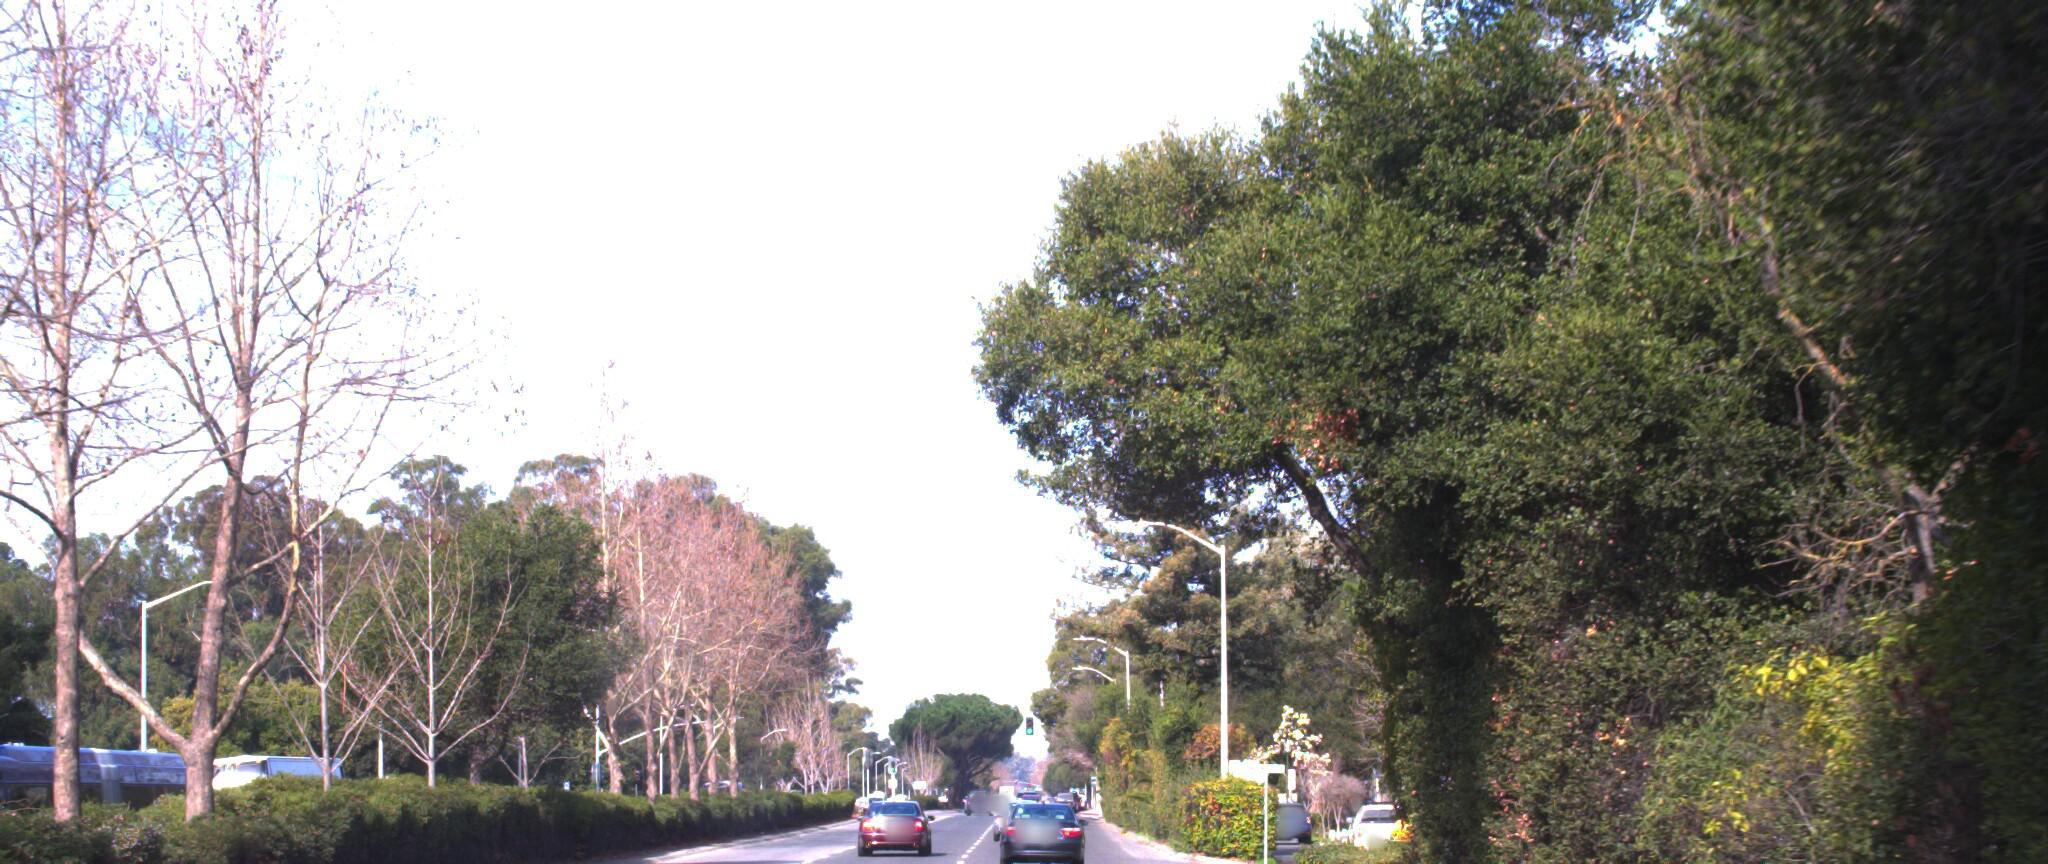bus: (0, 702, 213, 864)
car: (997, 777, 1081, 850), (861, 780, 935, 841)
